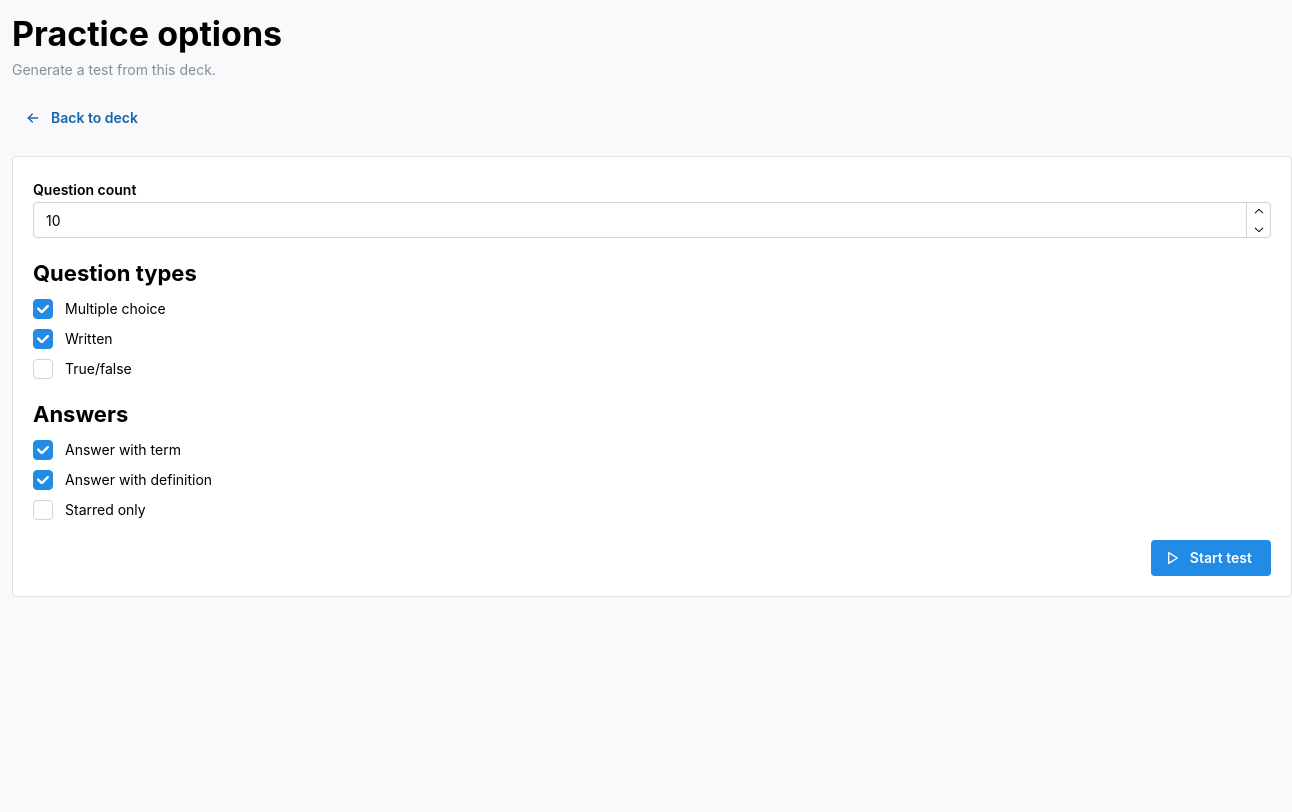
Test: practice test mode › shows an error alert when starting a practice test fails
Click the button "Start test" at (1211, 558), box [1151, 540, 1271, 576]
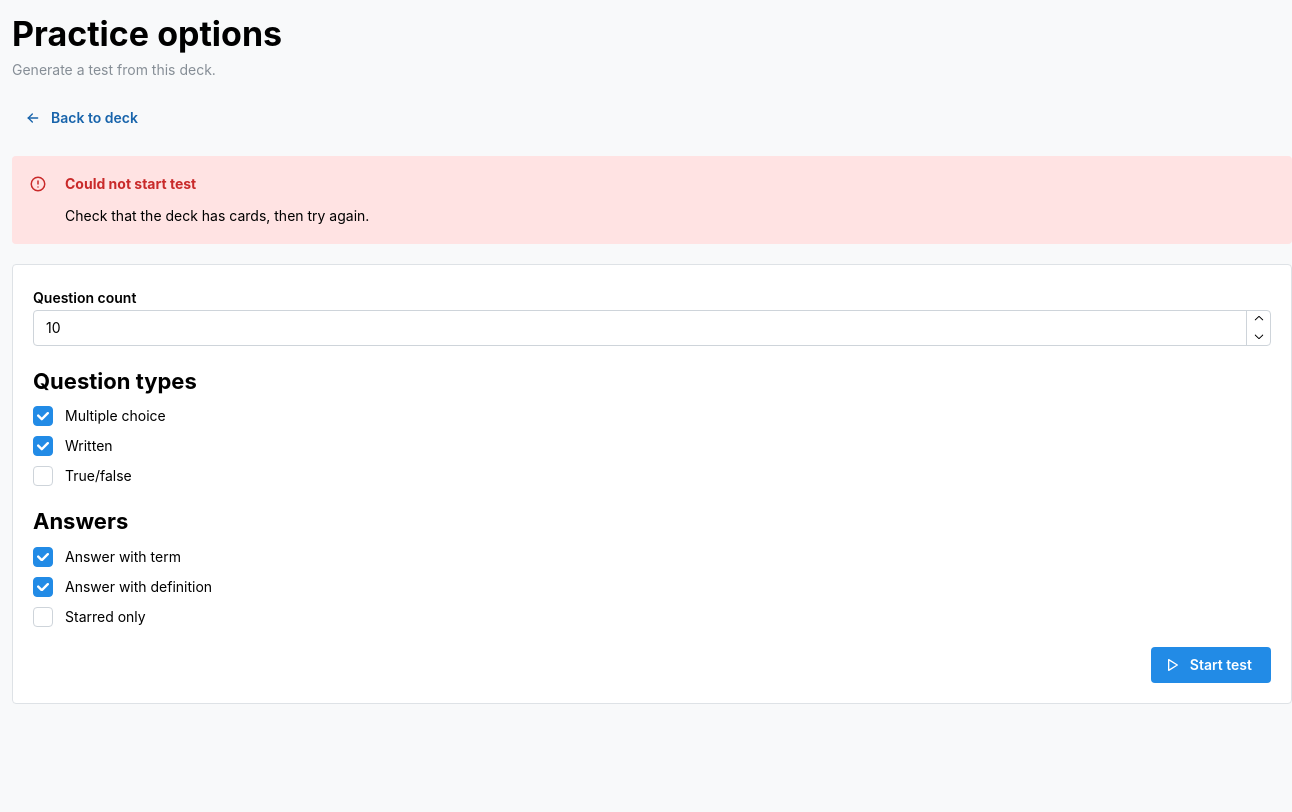
Check: the text "Could not start test" is shown, box [65, 174, 196, 195]
Check: the text "Check that the deck has cards, then try again." is shown, box [65, 207, 369, 224]
